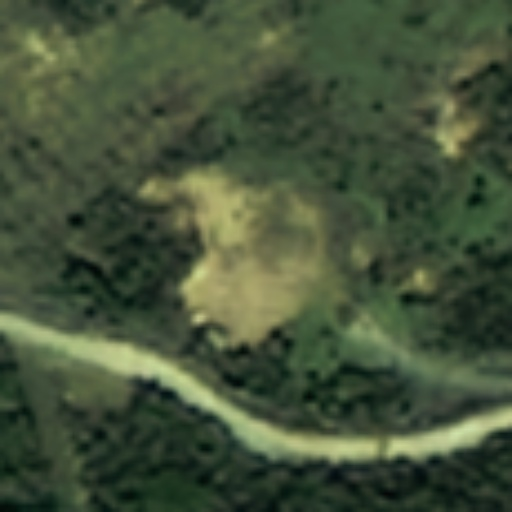landslide: (183, 163, 319, 352)
